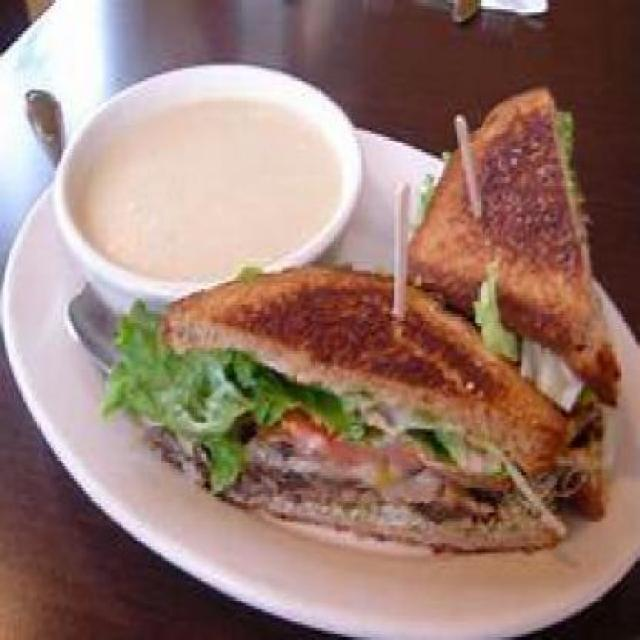clam chowder: (48, 59, 364, 255)
club sandwich: (190, 65, 618, 581)
